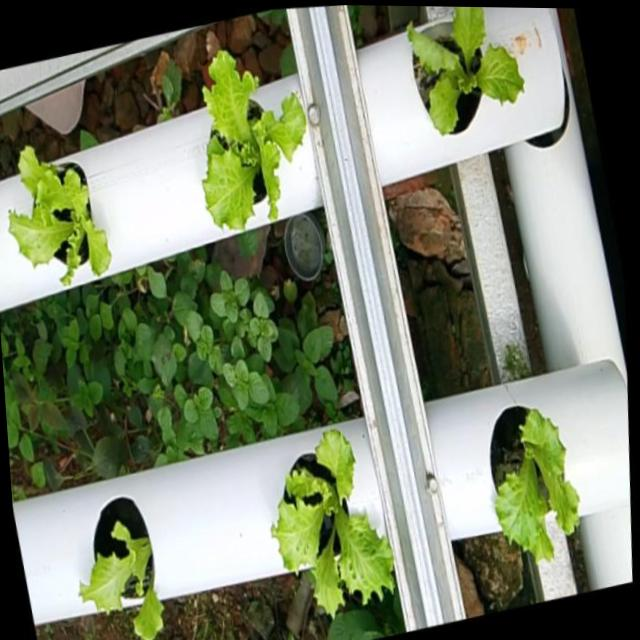Baby: (272, 432, 396, 622), (204, 55, 309, 234), (408, 7, 526, 141), (13, 148, 114, 287), (491, 410, 580, 565), (82, 495, 165, 640)
